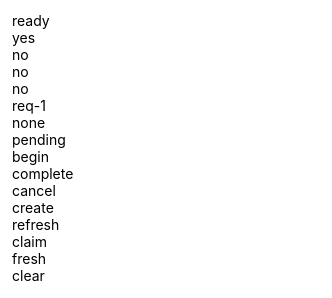
Test: ParentalConsentProvider claim intent › routes approved unbound without pendingClaimUid to createAccount
This screenshot has width=332, height=298.
expect the text with test id "hydrate" reads "ready": met, box [12,12,50,29]
What coordinates should you click on to do the following:
click the text with test id "refresh"
I would click on:
 (36, 224)
Its box is [12,216,59,233].
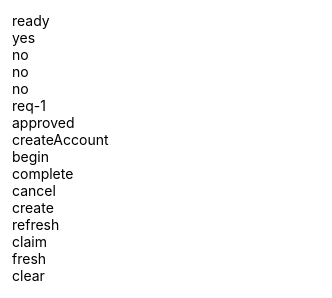
expect the text with test id "destination" reads "createAccount": met, box [12,131,108,148]
